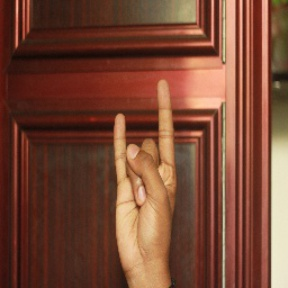V: (105, 74, 182, 262)
